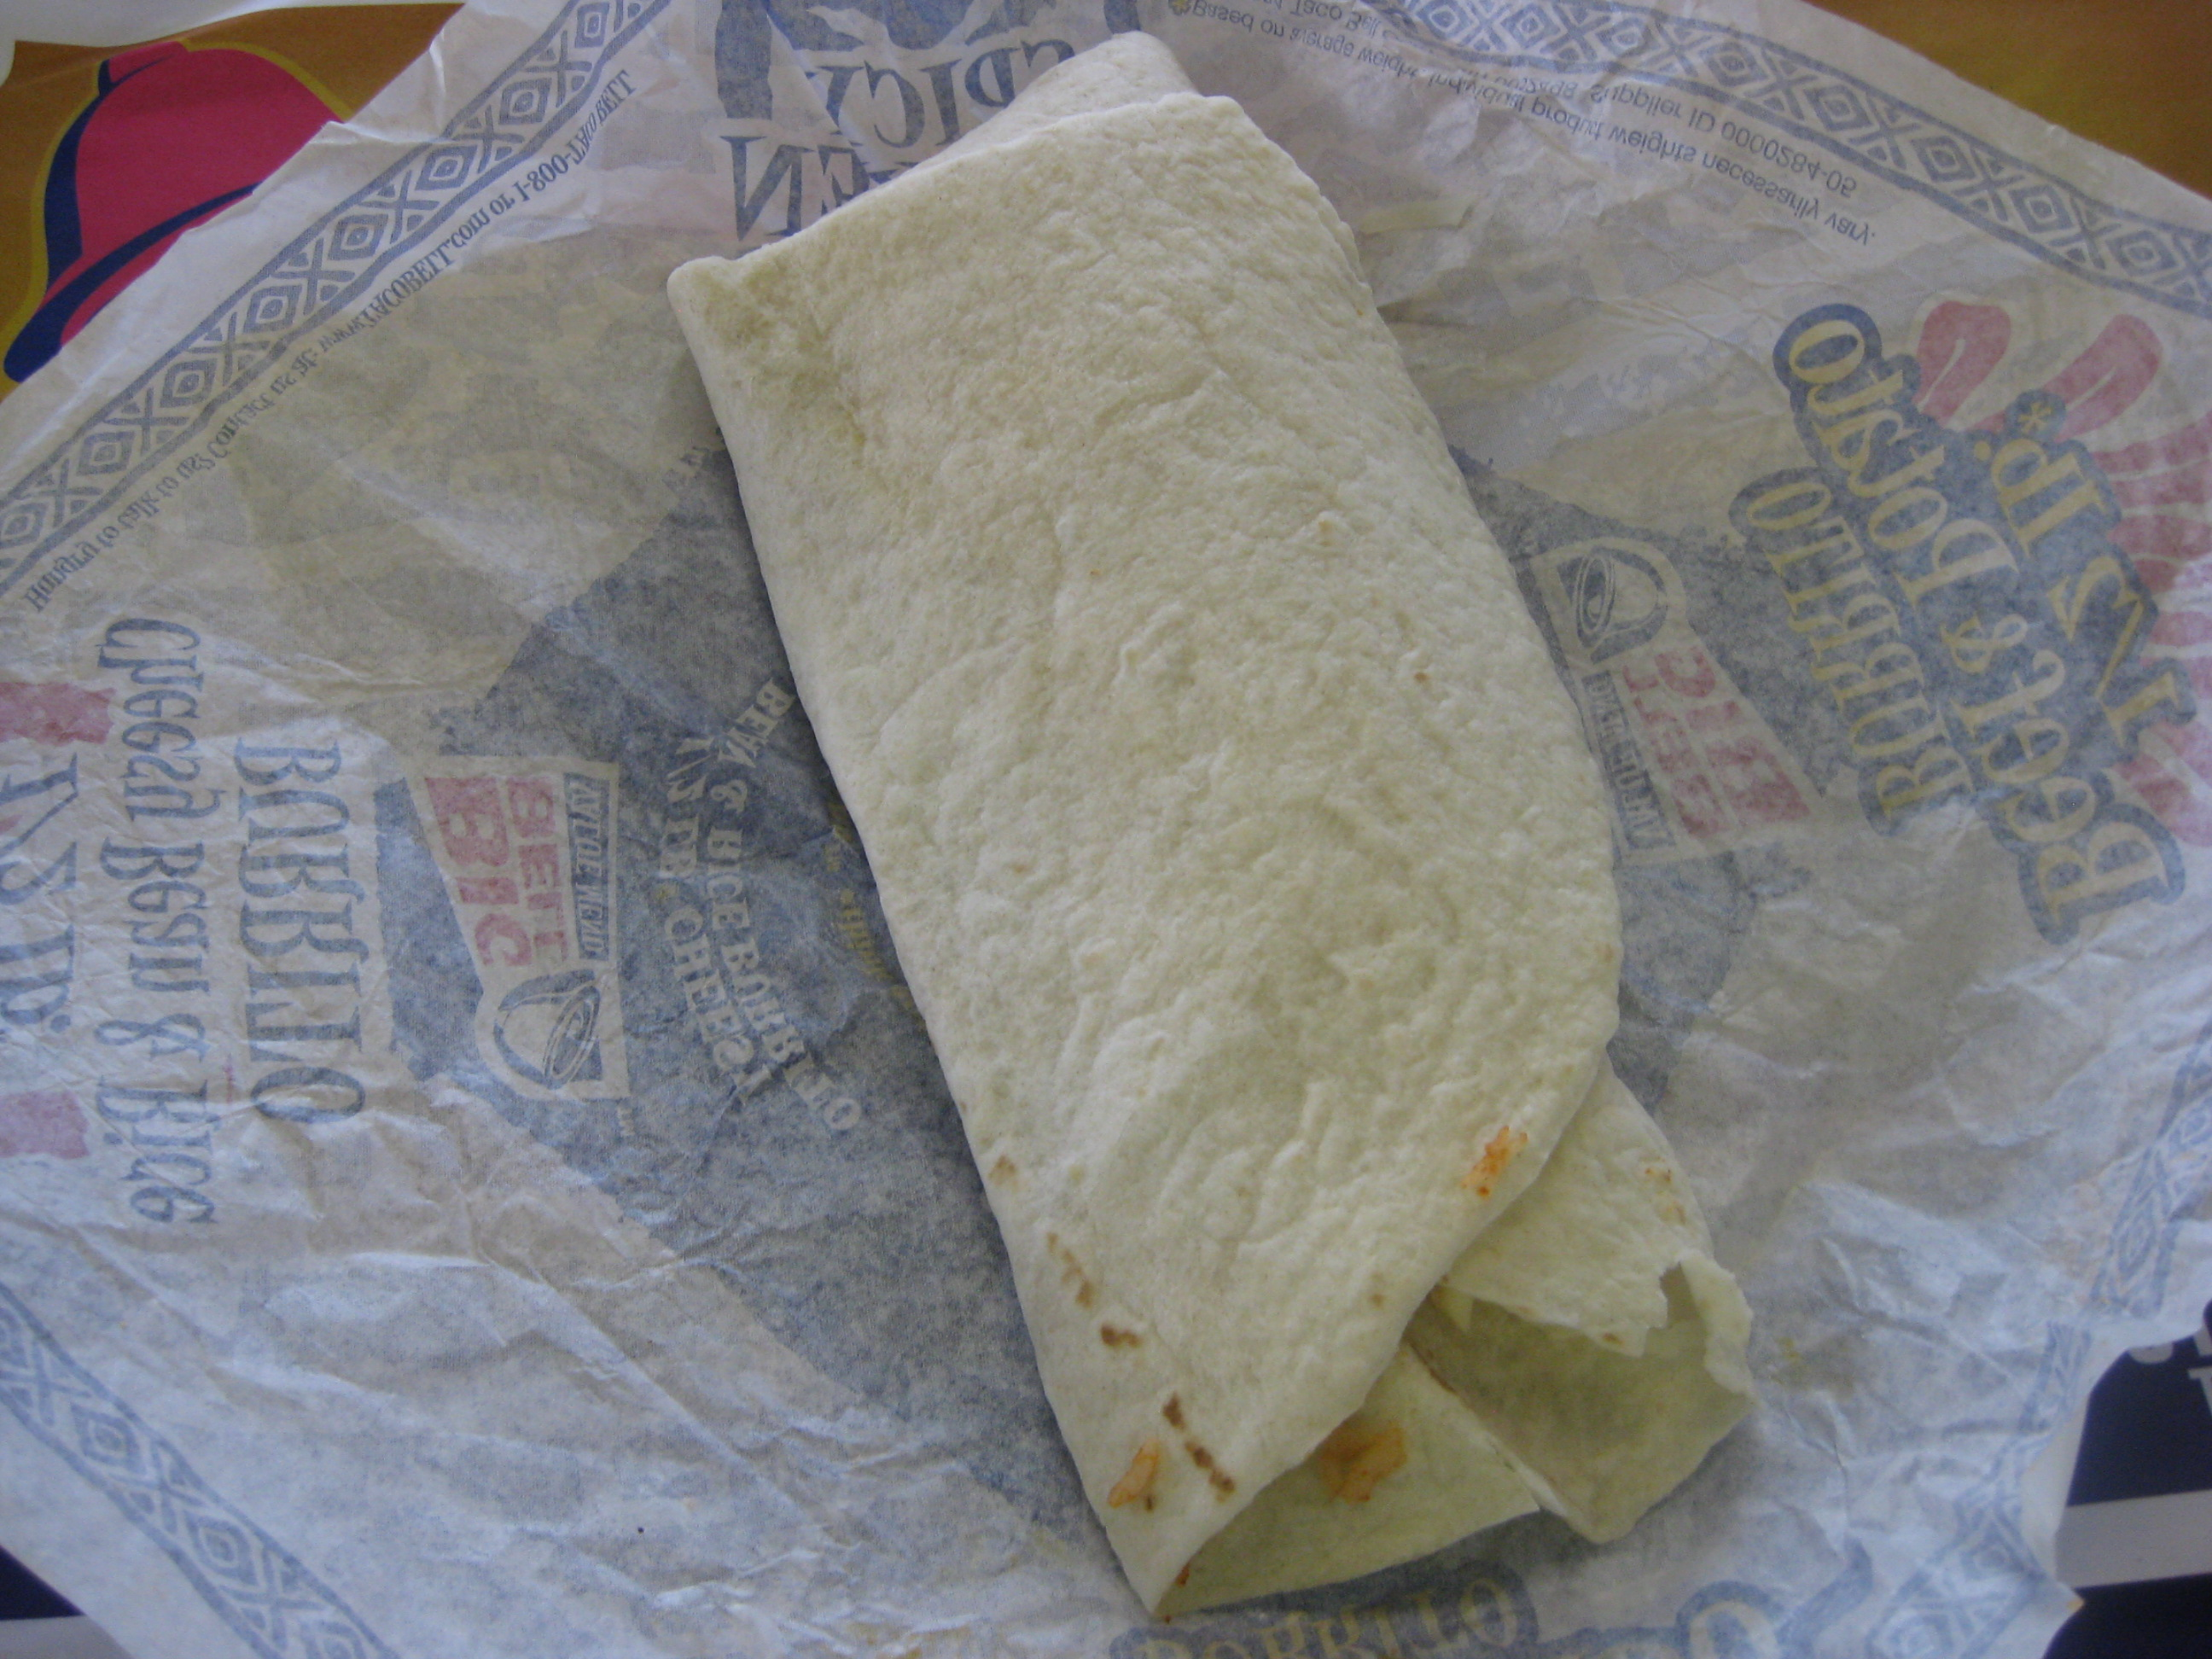burrito: (612, 25, 1896, 1604)
